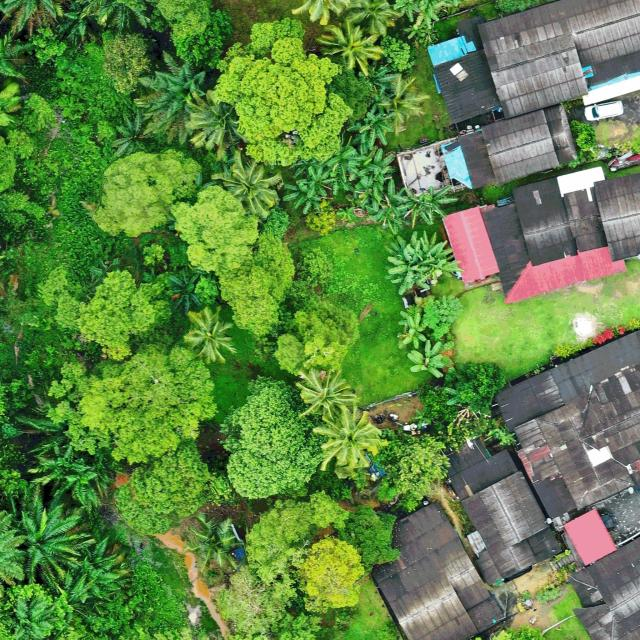Tree: (212, 489, 364, 640), (46, 341, 219, 463), (213, 18, 353, 167), (216, 373, 326, 500), (38, 264, 173, 362), (112, 438, 213, 536), (14, 414, 111, 516), (96, 149, 202, 242), (0, 490, 91, 588), (219, 234, 298, 338), (171, 183, 259, 275), (431, 360, 514, 454), (276, 298, 362, 379), (134, 49, 206, 145), (373, 428, 451, 513), (312, 404, 390, 471), (384, 229, 460, 296), (210, 150, 282, 218), (338, 503, 402, 573), (314, 17, 384, 77), (182, 89, 240, 159), (181, 515, 244, 572), (102, 29, 156, 94), (182, 304, 239, 364), (295, 368, 359, 421), (353, 146, 398, 213), (392, 184, 458, 229), (376, 74, 430, 129), (282, 166, 340, 214), (346, 111, 396, 156), (324, 145, 367, 196), (344, 0, 401, 37), (112, 111, 158, 156), (376, 178, 410, 236), (406, 338, 454, 376), (397, 310, 434, 350), (570, 119, 596, 152)
